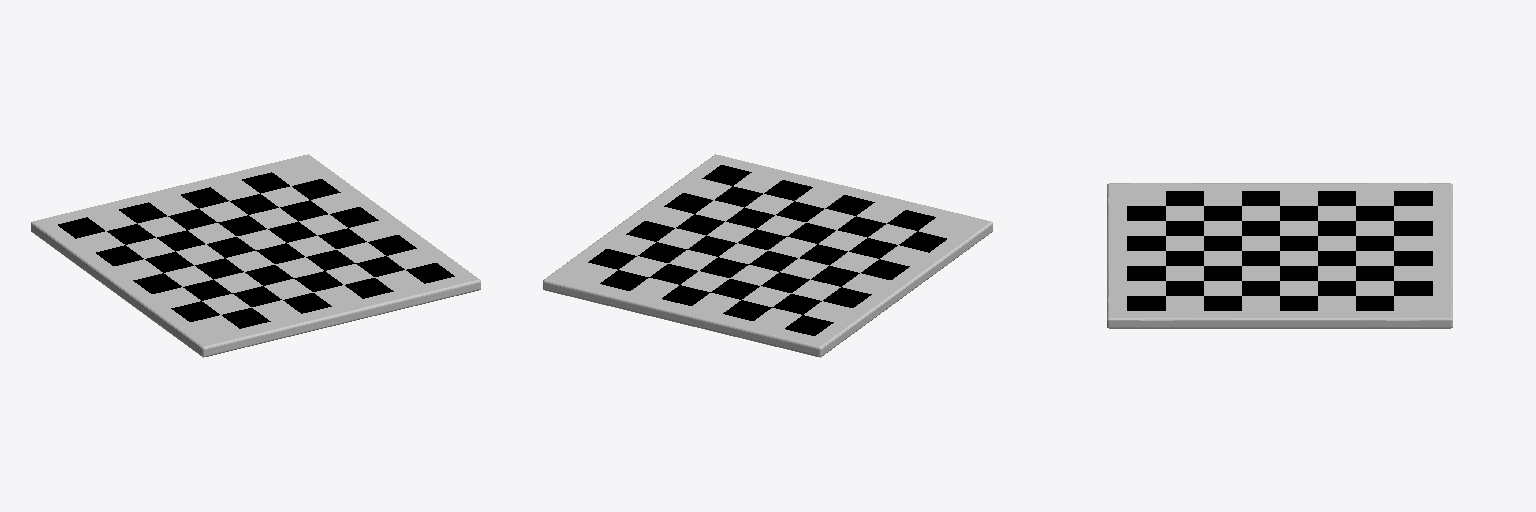
File: chessbed.obj
3 views of the same model, side by side, from view 1: azimuth 30°, elevation 25°; view 2: azimuth 150°, elevation 25°; view 3: azimuth 270°, elevation 25° (orthographic).
Visible parts, largest first — view 1: Chess_board_Mesh; view 2: Chess_board_Mesh; view 3: Chess_board_Mesh.
Boxes of the visible parts, x1,y1,x2,y2 form: Chess_board_Mesh: [31, 154, 480, 357]; Chess_board_Mesh: [543, 154, 992, 357]; Chess_board_Mesh: [1107, 183, 1452, 328].
Size of the model in its own units: 0.697 by 0.0258 by 0.7486.